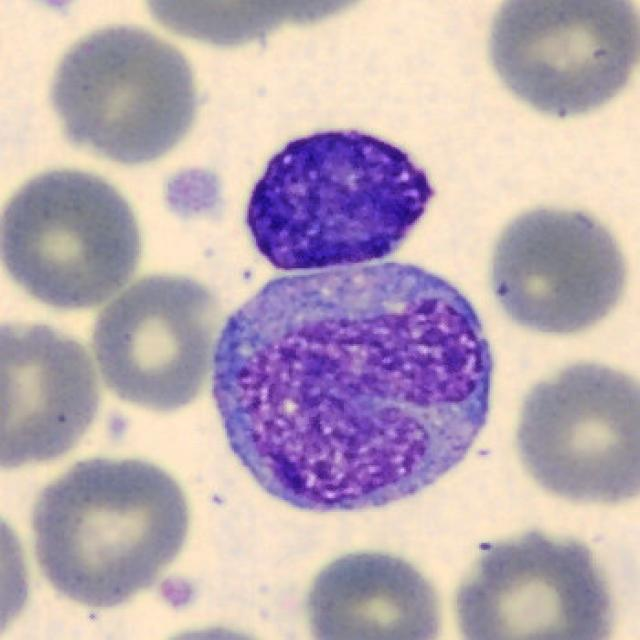Linfocito: (247, 130, 435, 272)
Monocito: (212, 259, 494, 512)
